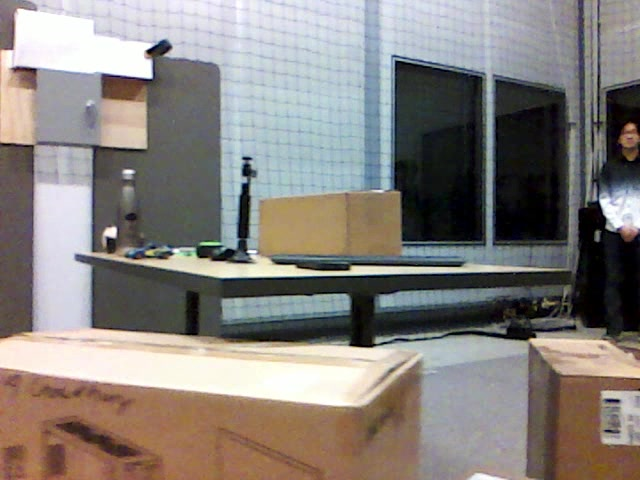box: (1, 326, 422, 480), (525, 338, 640, 480), (258, 192, 402, 258)
